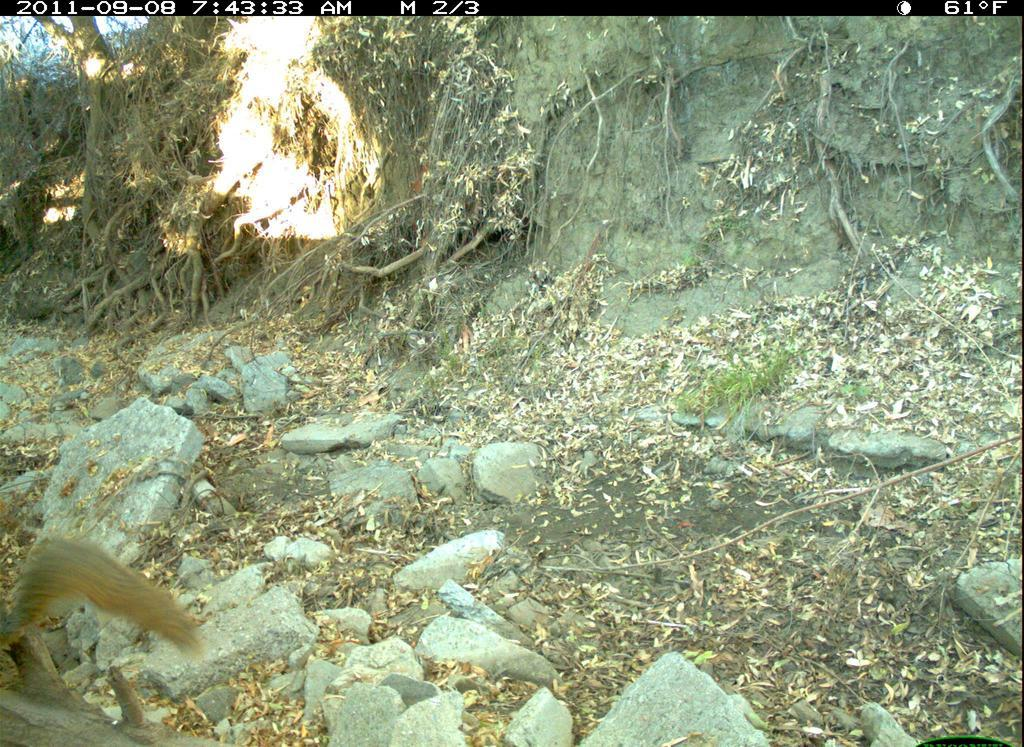squirrel: (2, 509, 213, 670)
